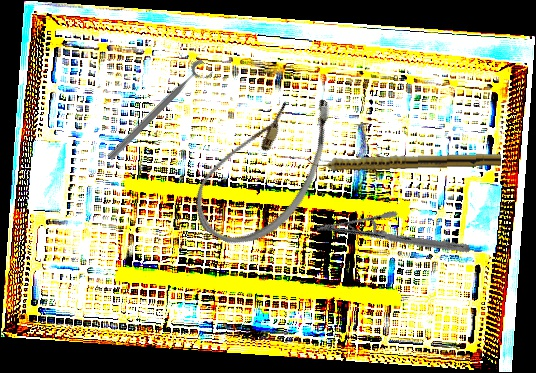Cannula: (180, 67, 352, 265)
Fixation Ring: (103, 57, 216, 169)
Handpiece: (306, 149, 502, 173)
Needle Holder: (315, 176, 471, 300)
